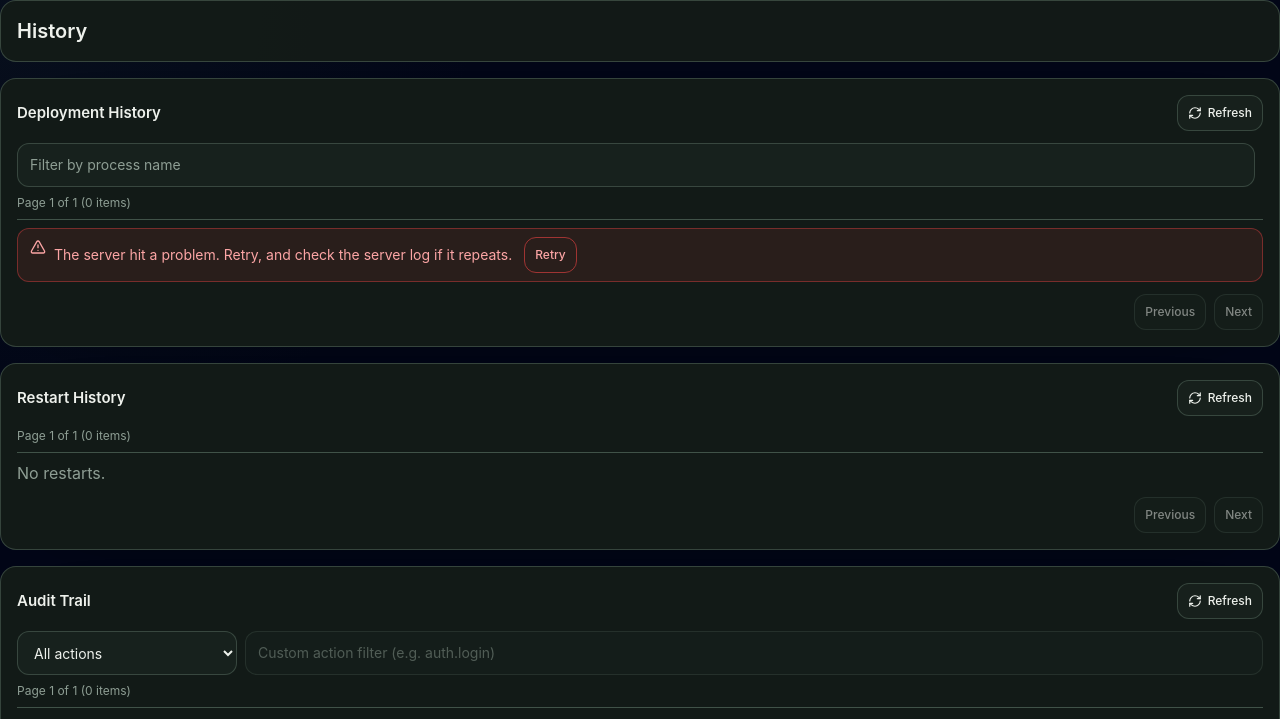
Test: History load failures › retries the failed section and clears the error once it loads
Click the button "Retry". click: (550, 255)
box: left=524, top=237, right=577, bottom=273
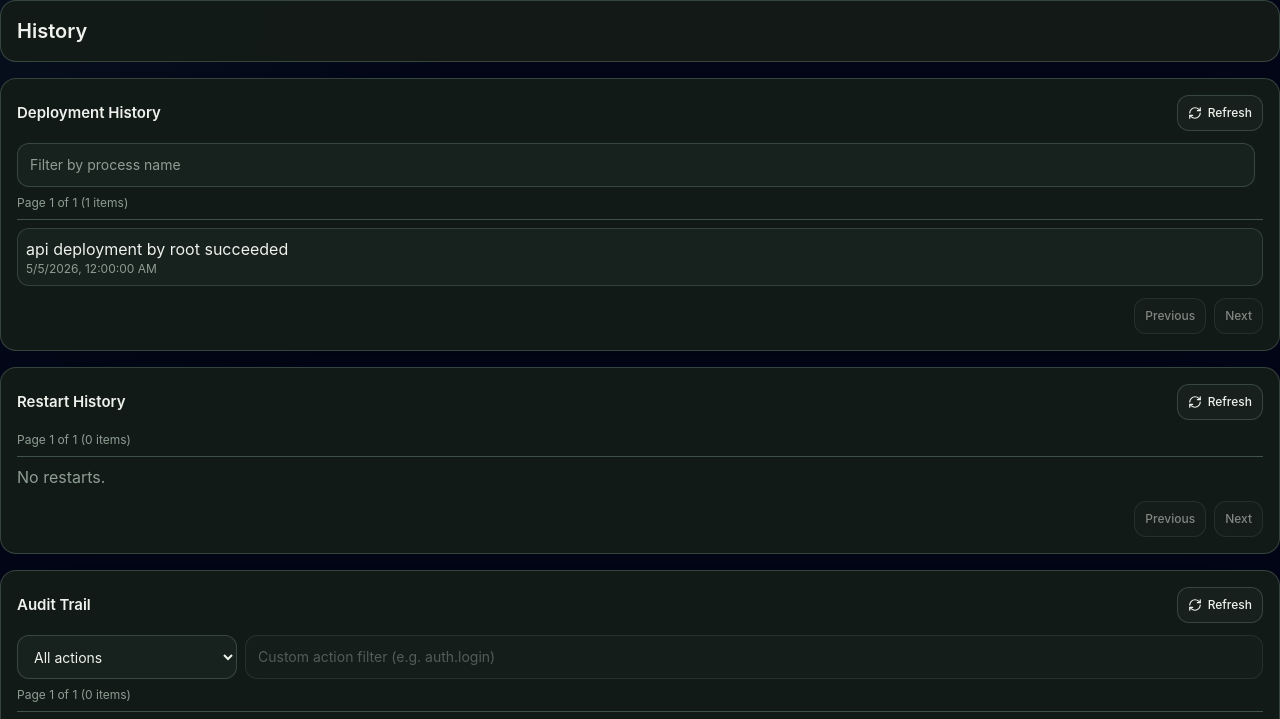
Expected: the text "api deployment by root succeeded" is shown, left=26, top=239, right=288, bottom=259
Expected: the text "Retry" is gone
